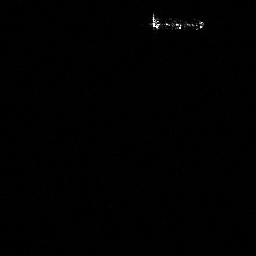ship: (148, 12, 207, 33)
